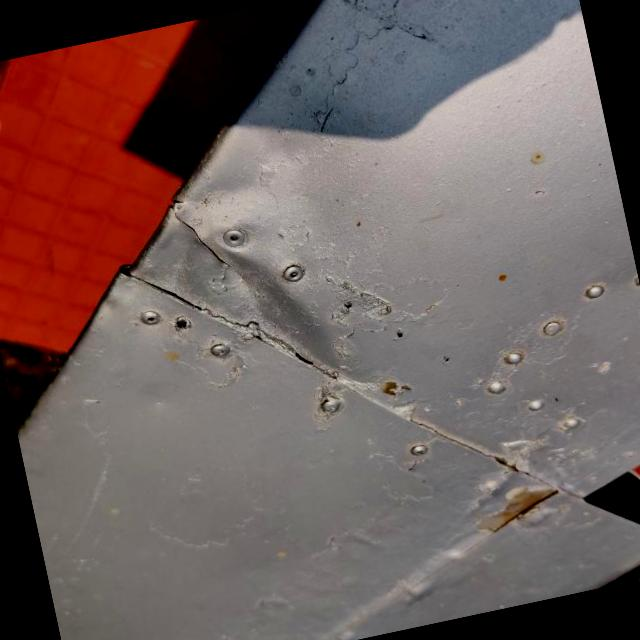crack: (160, 176, 263, 303)
paint-off: (458, 466, 575, 551), (374, 368, 424, 416)
